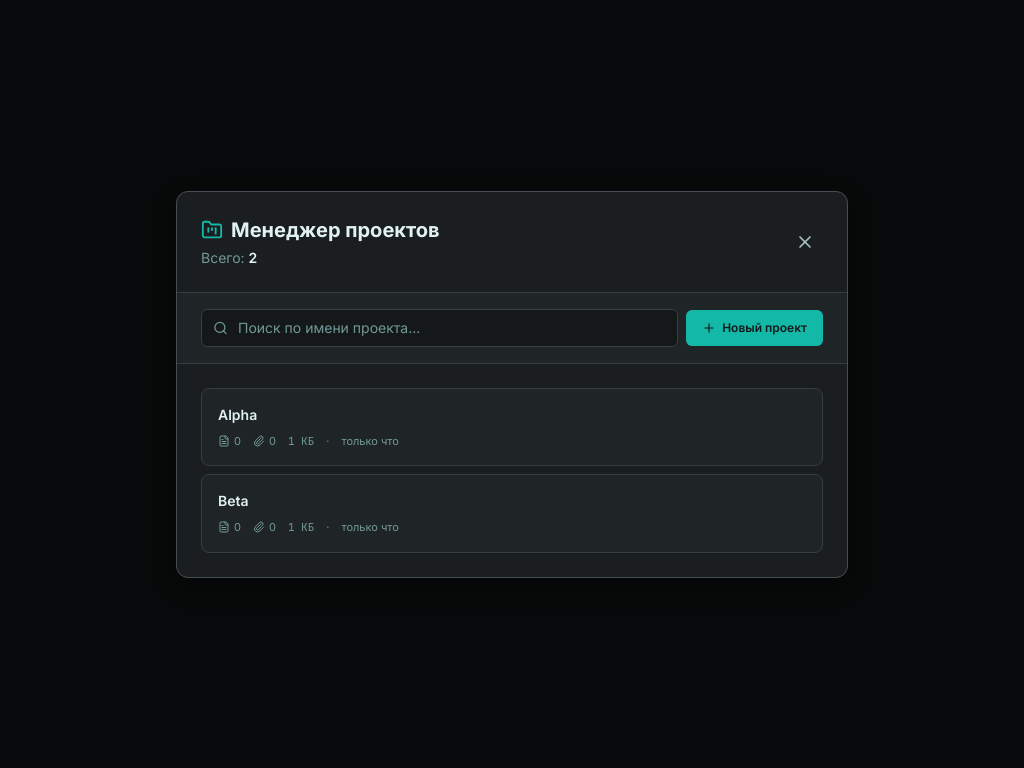
Test: ProjectManagerModal › Поиск › фильтрует проекты по имени
The width and height of the screenshot is (1024, 768).
Check: the text "Alpha" is shown, box [218,404,257,424]
Check: the text "Beta" is shown, box [218,491,249,511]
Type "alph" into the field named "Поиск по проектам" at (440, 328), box [201,308,678,346]
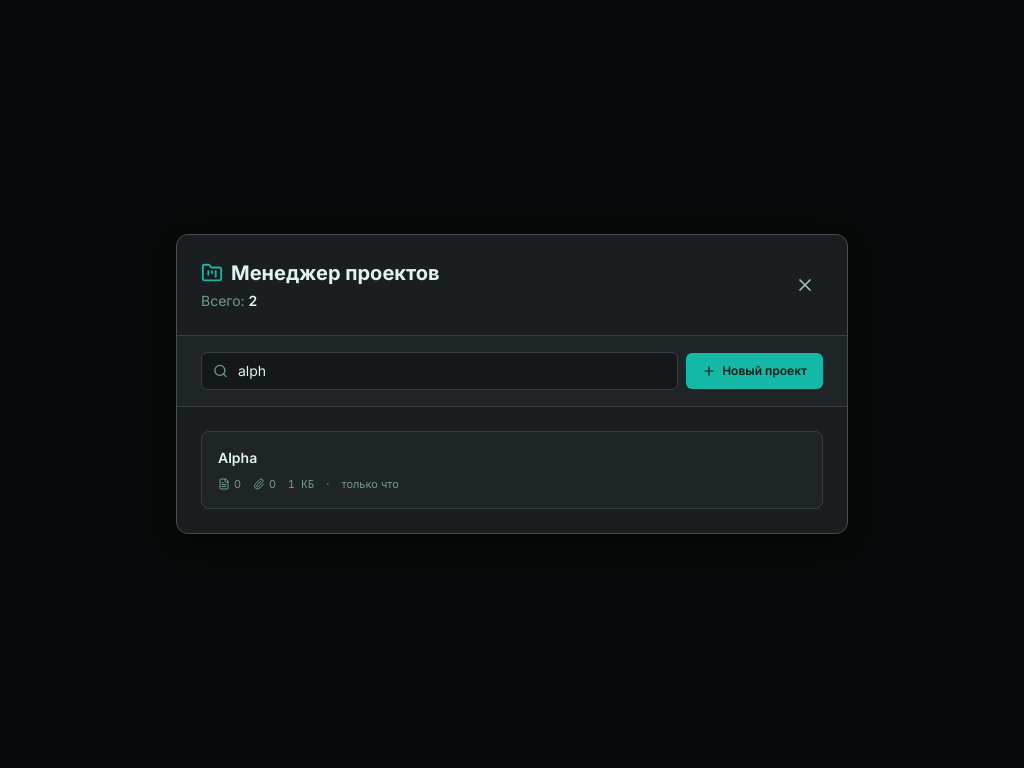
Check: the text "Alpha" is shown, box [218,448,257,468]
Check: the button "Beta" is gone
